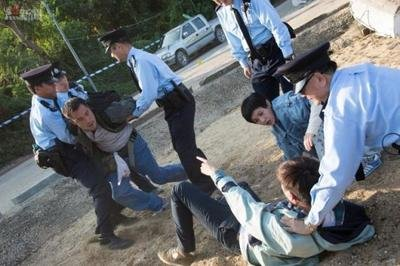fall: (160, 146, 328, 265)
